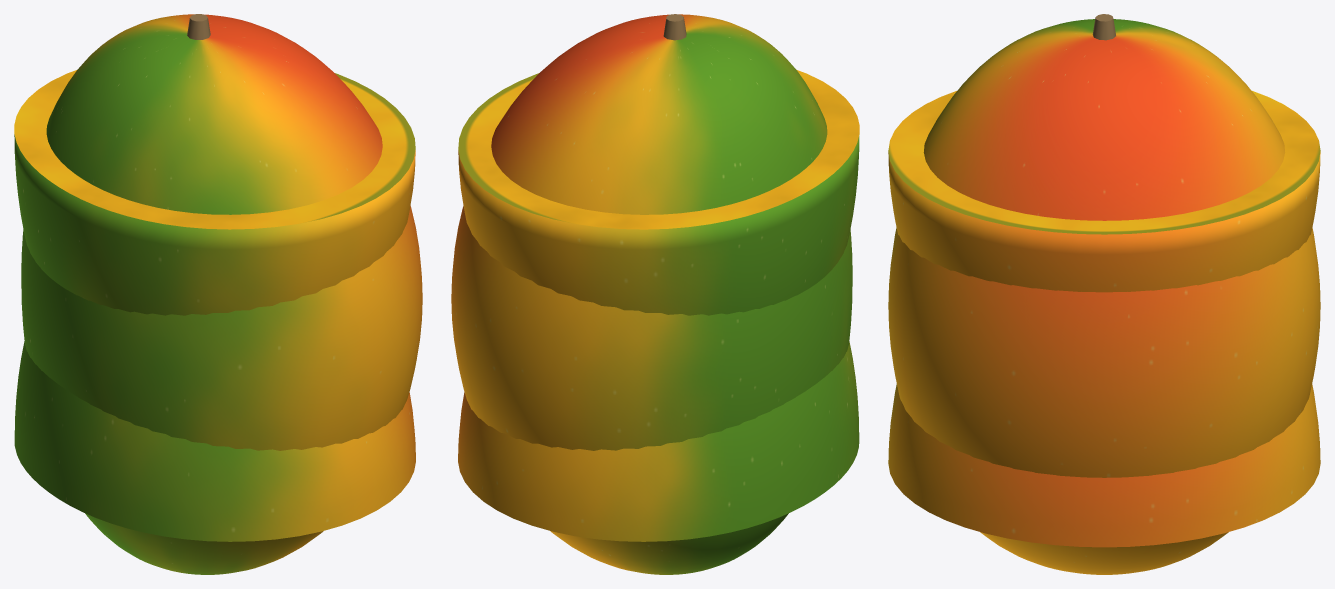
The model's file is mango.glb.
The picture shows the model from 3 angles, left to right: view 1: azimuth 30°, elevation 25°; view 2: azimuth 150°, elevation 25°; view 3: azimuth 270°, elevation 25°; orthographic projection.
Visible parts, largest first — view 1: whole, bot, top; view 2: whole, bot, top; view 3: whole, bot, top.
Boxes of the visible parts, <box> form: whole: <box>21,14,422,574</box>; bot: <box>14,70,415,315</box>; top: <box>14,341,415,541</box>; whole: <box>451,14,852,574</box>; bot: <box>458,70,859,315</box>; top: <box>458,341,859,541</box>; whole: <box>888,14,1320,574</box>; bot: <box>888,91,1320,292</box>; top: <box>888,384,1320,547</box>.
Size of the model in its own units: 0.5236 by 0.785 by 0.5712.
3 materials, 2 textured.
